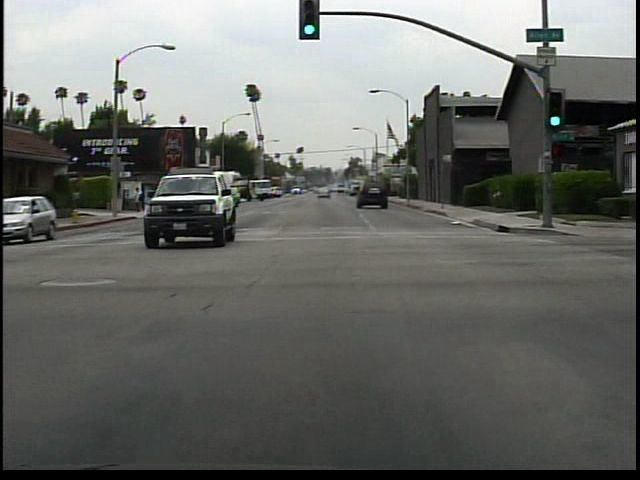person: (134, 183, 149, 215)
